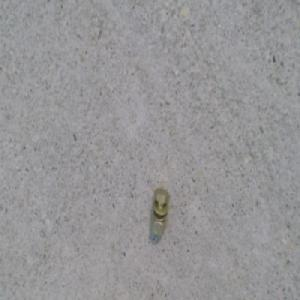BoltNutSet: (152, 186, 170, 233)
